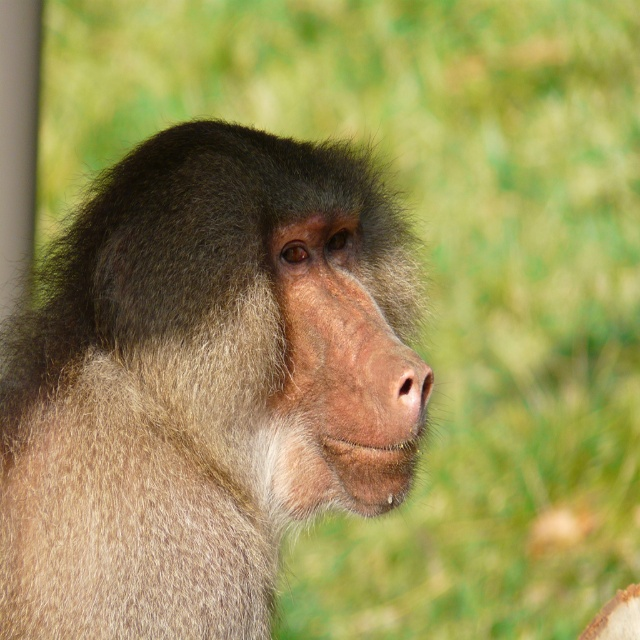Monkey: (0, 112, 454, 640)
